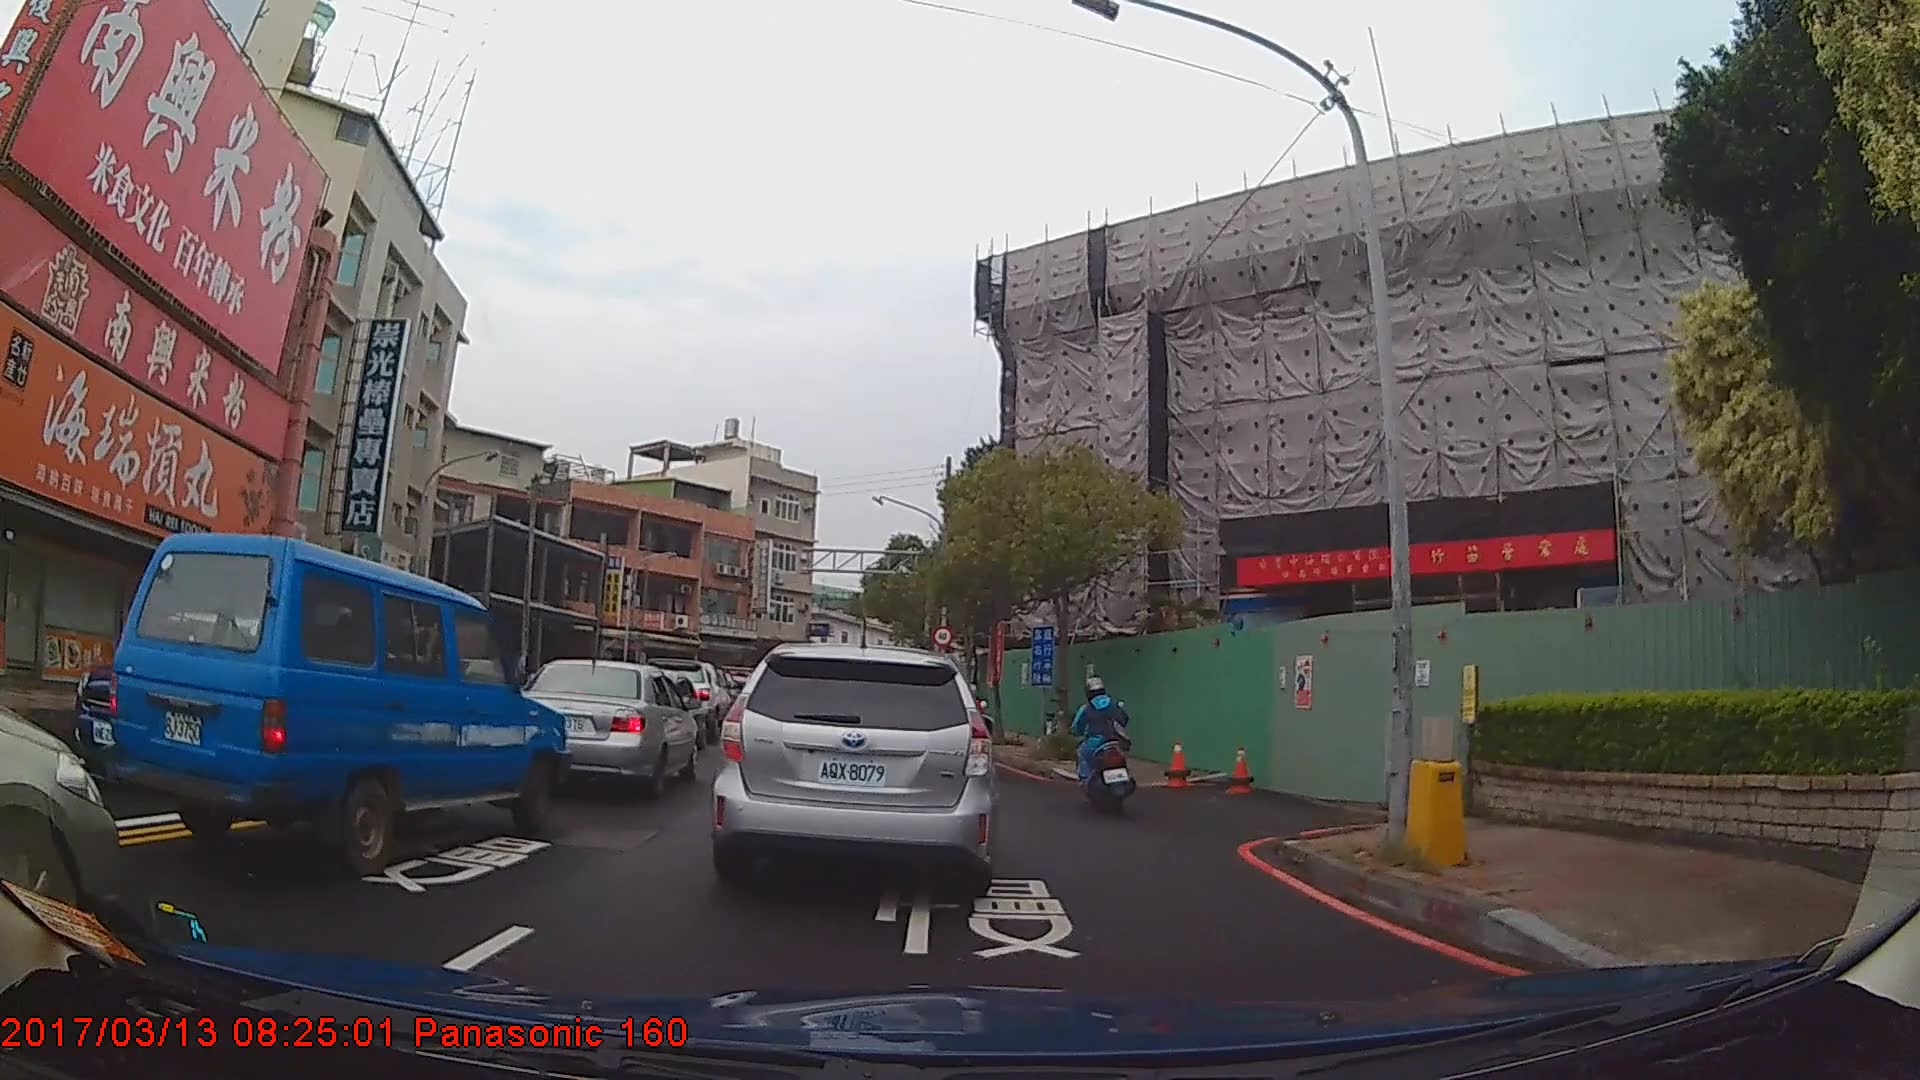rider: (1076, 682, 1133, 817)
vehicle: (104, 532, 570, 877), (706, 644, 1002, 892), (512, 659, 697, 796)
